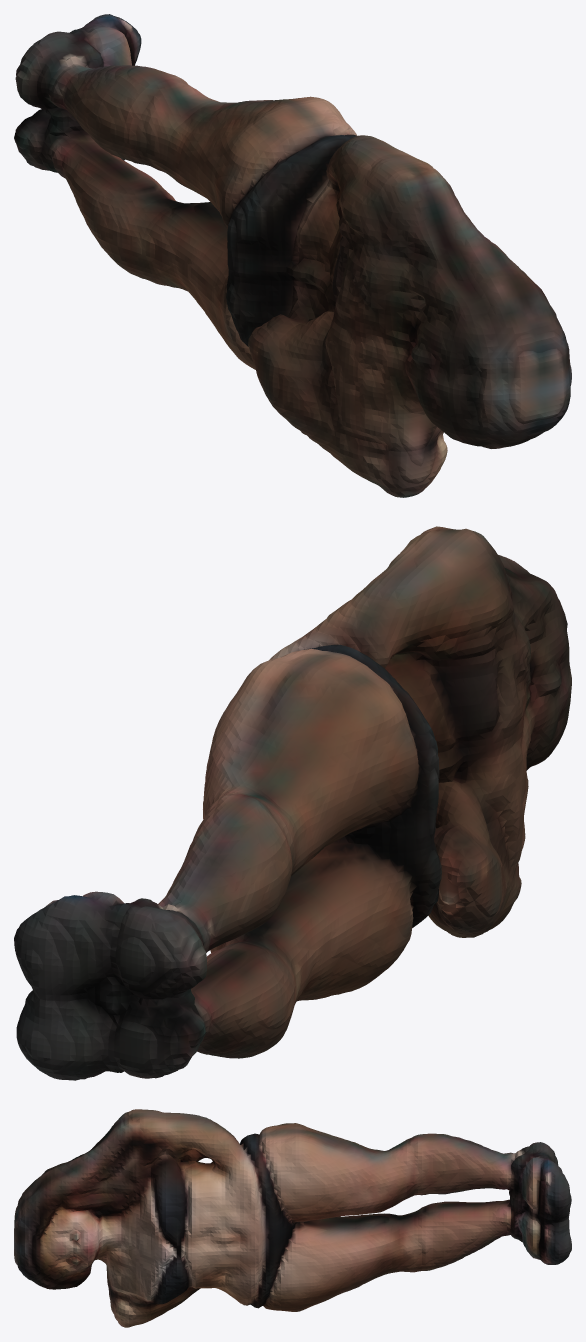
3 views of the same model, one above another, from view 1: azimuth 30°, elevation 25°; view 2: azimuth 150°, elevation 25°; view 3: azimuth 270°, elevation 25° (orthographic). The views are drawn at different scales.
Bounding box in the file's own units: 0.2639 × 0.4374 × 1.03.
